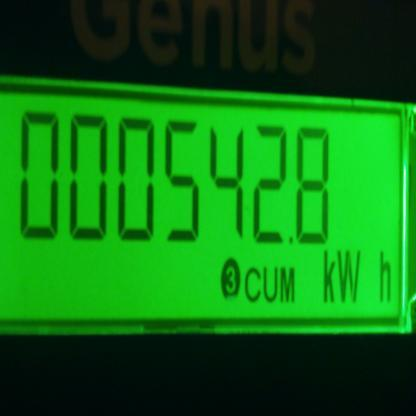.: (317, 245, 397, 303)
0: (286, 233, 294, 245)
1: (14, 106, 61, 241), (66, 112, 111, 241), (114, 114, 157, 244)
3: (254, 124, 290, 246)
5: (207, 123, 247, 243)
6: (164, 114, 205, 247)
9: (295, 125, 331, 246)
